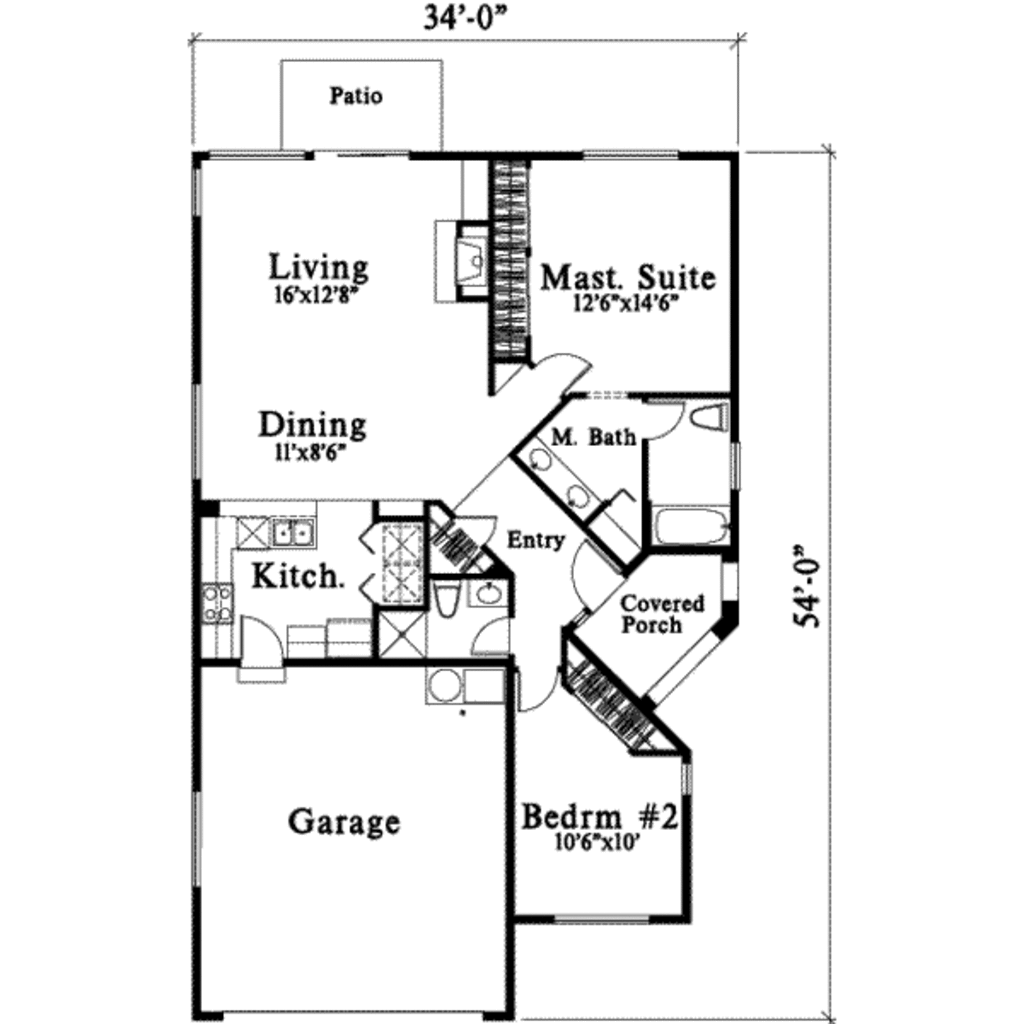door: (234, 611, 295, 689), (565, 535, 623, 617), (534, 338, 598, 395), (512, 657, 561, 720), (642, 393, 687, 451), (471, 616, 523, 660), (447, 509, 499, 547)
large_sink: (687, 397, 734, 436), (426, 579, 465, 625)
small_sink: (507, 441, 604, 530), (465, 578, 515, 609)
tub: (653, 501, 733, 543)
twin_sink: (261, 512, 322, 562)
window: (579, 139, 688, 168), (542, 906, 660, 930), (199, 143, 315, 166), (190, 782, 207, 905), (187, 381, 204, 484), (674, 758, 701, 805)
